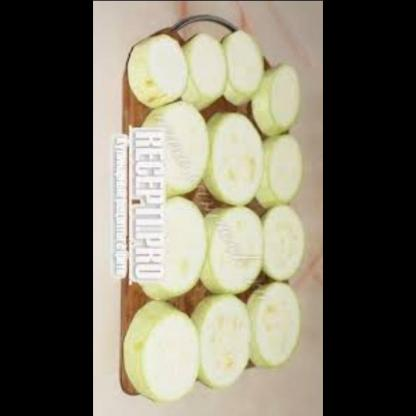vegetable marrow: (116, 292, 212, 405), (130, 201, 215, 307), (199, 202, 276, 300), (134, 105, 212, 196), (200, 114, 273, 209), (199, 294, 266, 393), (252, 282, 312, 388), (125, 27, 192, 111), (262, 202, 314, 295), (183, 22, 234, 115), (257, 132, 311, 219), (228, 23, 276, 112), (252, 60, 310, 132)
